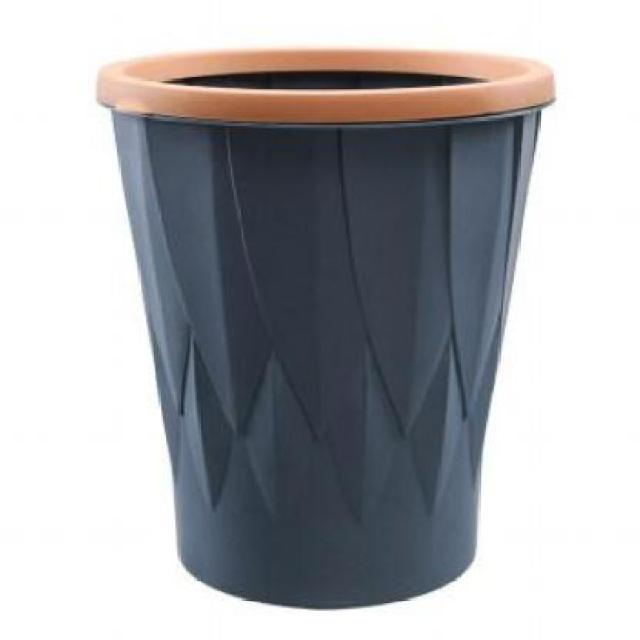dustbin: (92, 41, 560, 614)
